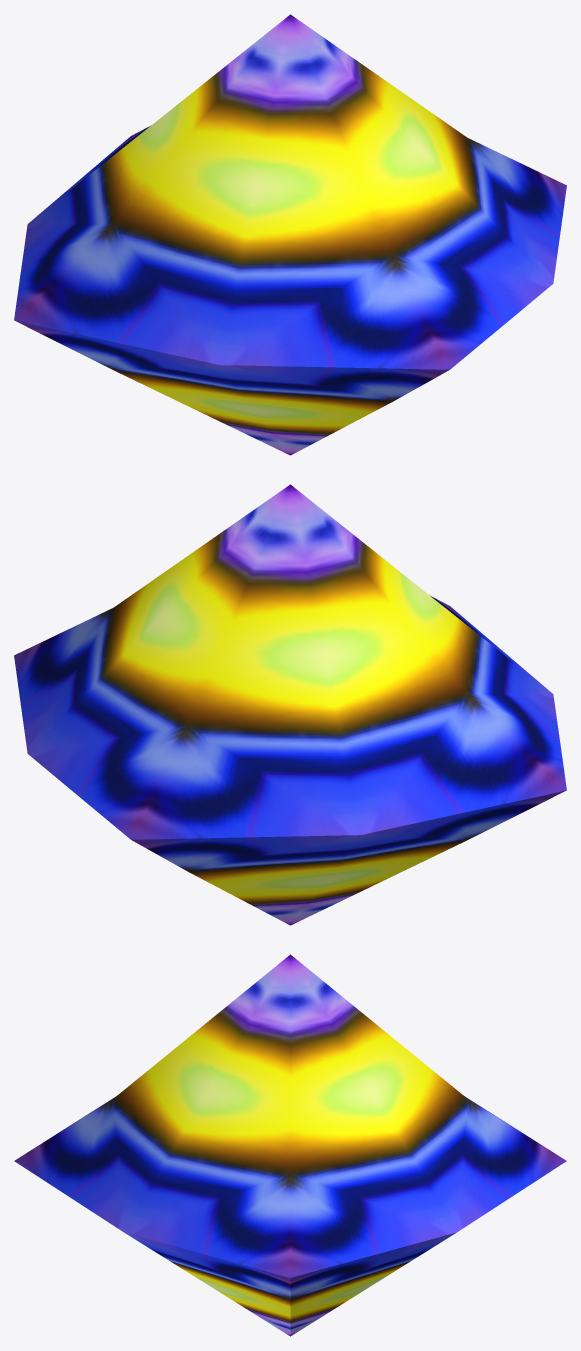
File: misc-03.fbx
3 renders of one model, top to bottom at view 1: azimuth 30°, elevation 25°; view 2: azimuth 150°, elevation 25°; view 3: azimuth 270°, elevation 25°, orthographic. The views are drawn at different scales.
Visible parts, largest first — view 1: misc-03; view 2: misc-03; view 3: misc-03.
Part boxes in pixels (x1,y1,x2,y2): misc-03: (14, 14, 566, 455); misc-03: (14, 484, 566, 925); misc-03: (14, 954, 566, 1336).
Size of the model in its own units: 37.24 by 28.4 by 37.24.
